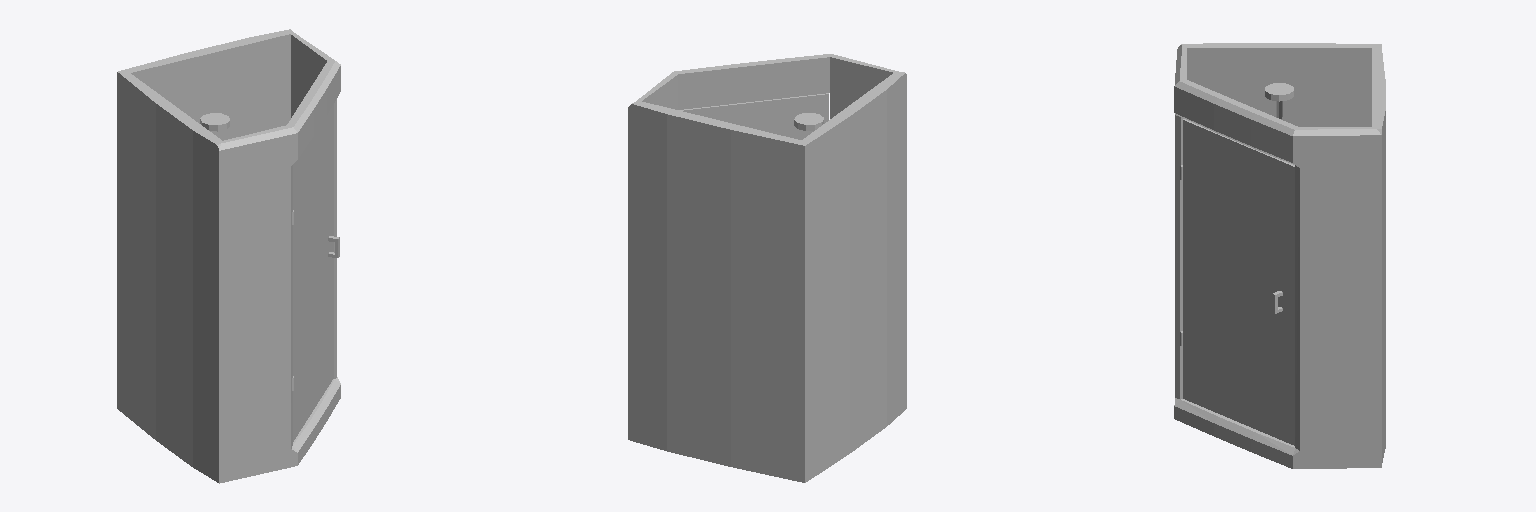
Rendered from Shower 1.obj.
3 views of the same model, side by side, from view 1: azimuth 30°, elevation 25°; view 2: azimuth 150°, elevation 25°; view 3: azimuth 270°, elevation 25° (orthographic).
Visible parts, largest first — view 1: polySurface4; view 2: polySurface4; view 3: polySurface4.
Part boxes in pixels (left/top/right/bottom): polySurface4: left=117, top=29, right=340, bottom=483; polySurface4: left=628, top=54, right=906, bottom=482; polySurface4: left=1174, top=43, right=1385, bottom=468.
Size of the model in its own units: 13.98 by 24.64 by 13.98.